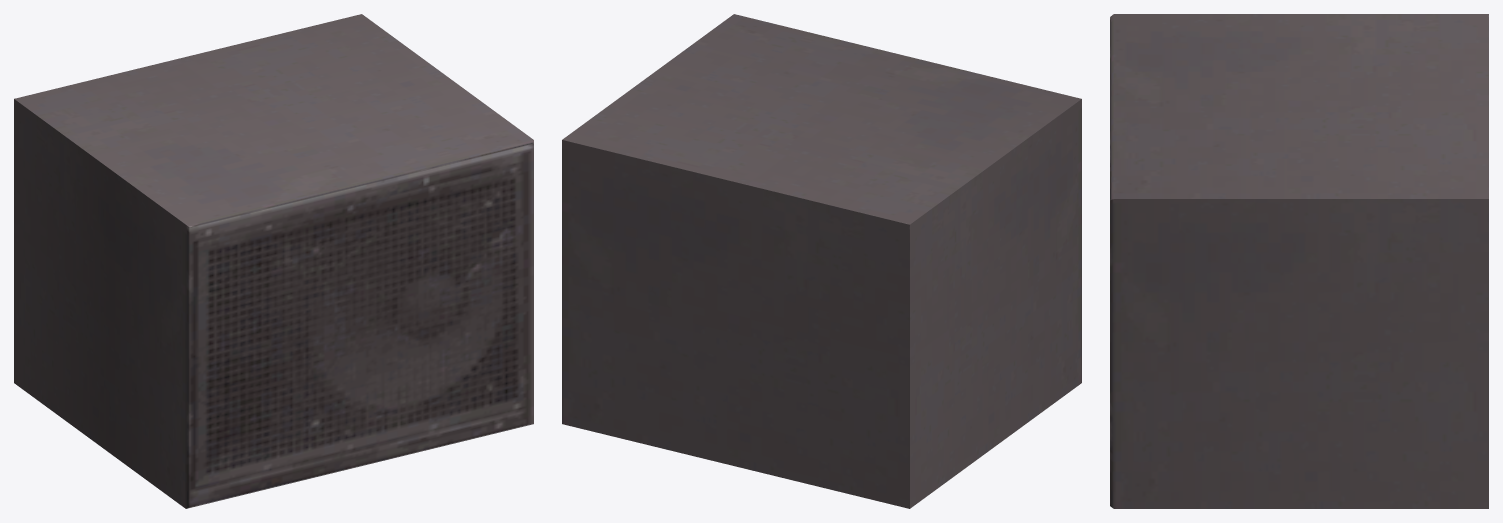
The model's file is Speaker_D.fbx.
3 views of the same model, side by side, from view 1: azimuth 30°, elevation 25°; view 2: azimuth 150°, elevation 25°; view 3: azimuth 270°, elevation 25° (orthographic). The views are drawn at different scales.
Parts seen in each view (by area): view 1: Speaker_Mid_08; view 2: Speaker_Mid_08; view 3: Speaker_Mid_08.
Boxes of the visible parts, x1,y1,x2,y2 form: Speaker_Mid_08: (14, 14, 533, 508); Speaker_Mid_08: (562, 14, 1081, 508); Speaker_Mid_08: (1110, 14, 1488, 508).
Bounding box in the file's own units: 1.38 × 1.07 × 1.19.
